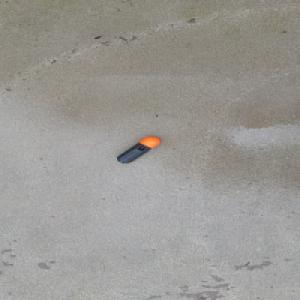PlasticPart: (116, 136, 161, 163)
